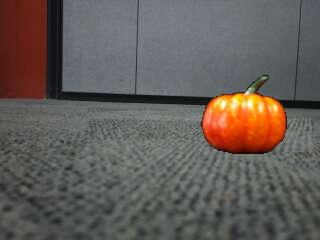Pumpkin: (200, 74, 289, 156)
